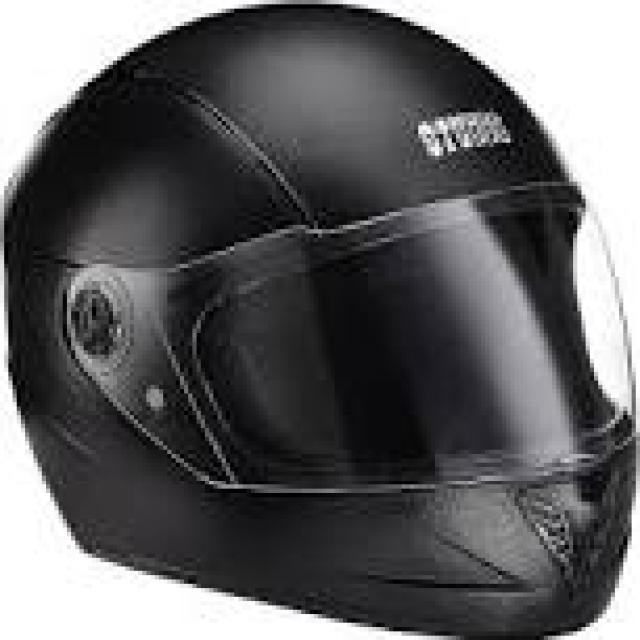With_helmet: (12, 3, 626, 615)
